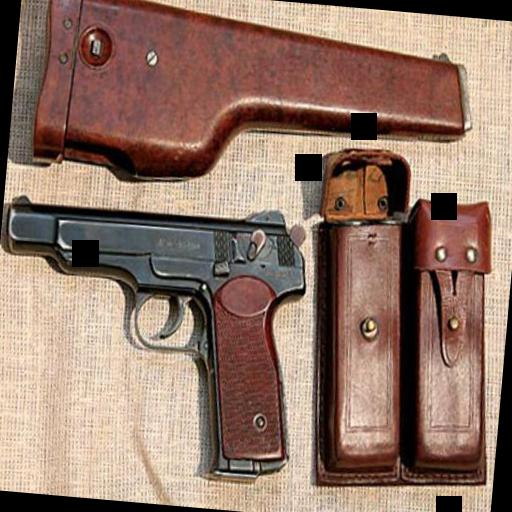Handgun: (0, 188, 313, 483)
